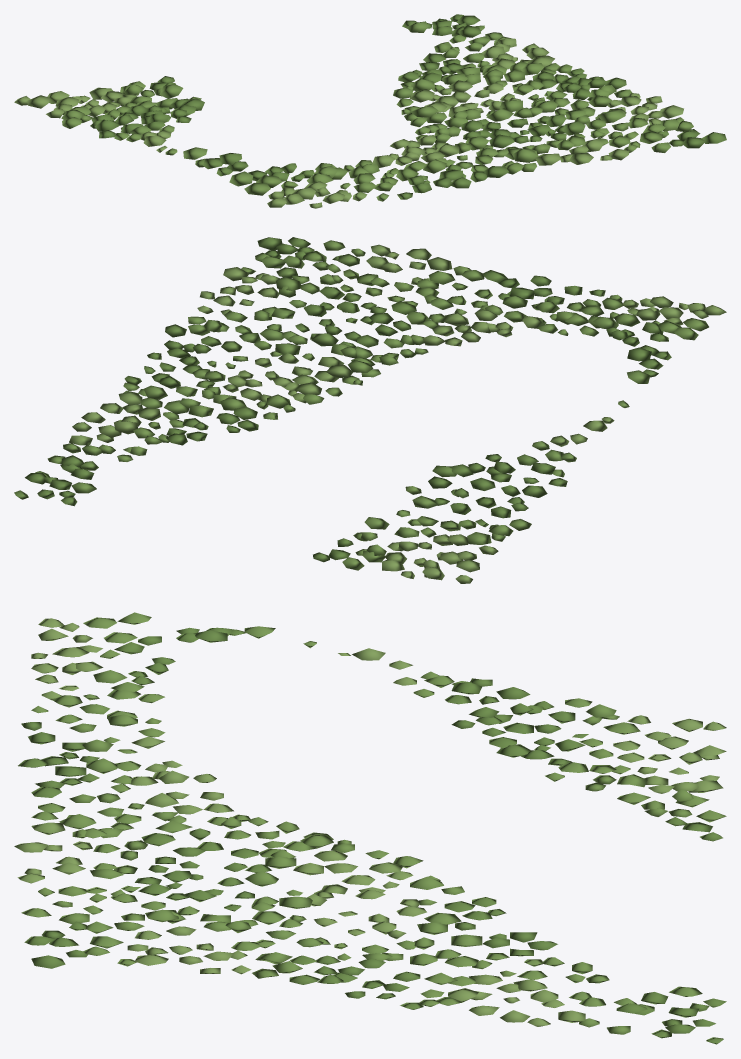
The model's file is canopy-1-3--1.glb.
3 views of the same model, one above another, from view 1: azimuth 30°, elevation 25°; view 2: azimuth 150°, elevation 25°; view 3: azimuth 270°, elevation 25° (orthographic). The views are drawn at different scales.
Size of the model in its own units: 518 by 120 by 518.
Materials: 1 (1 with a texture image).
